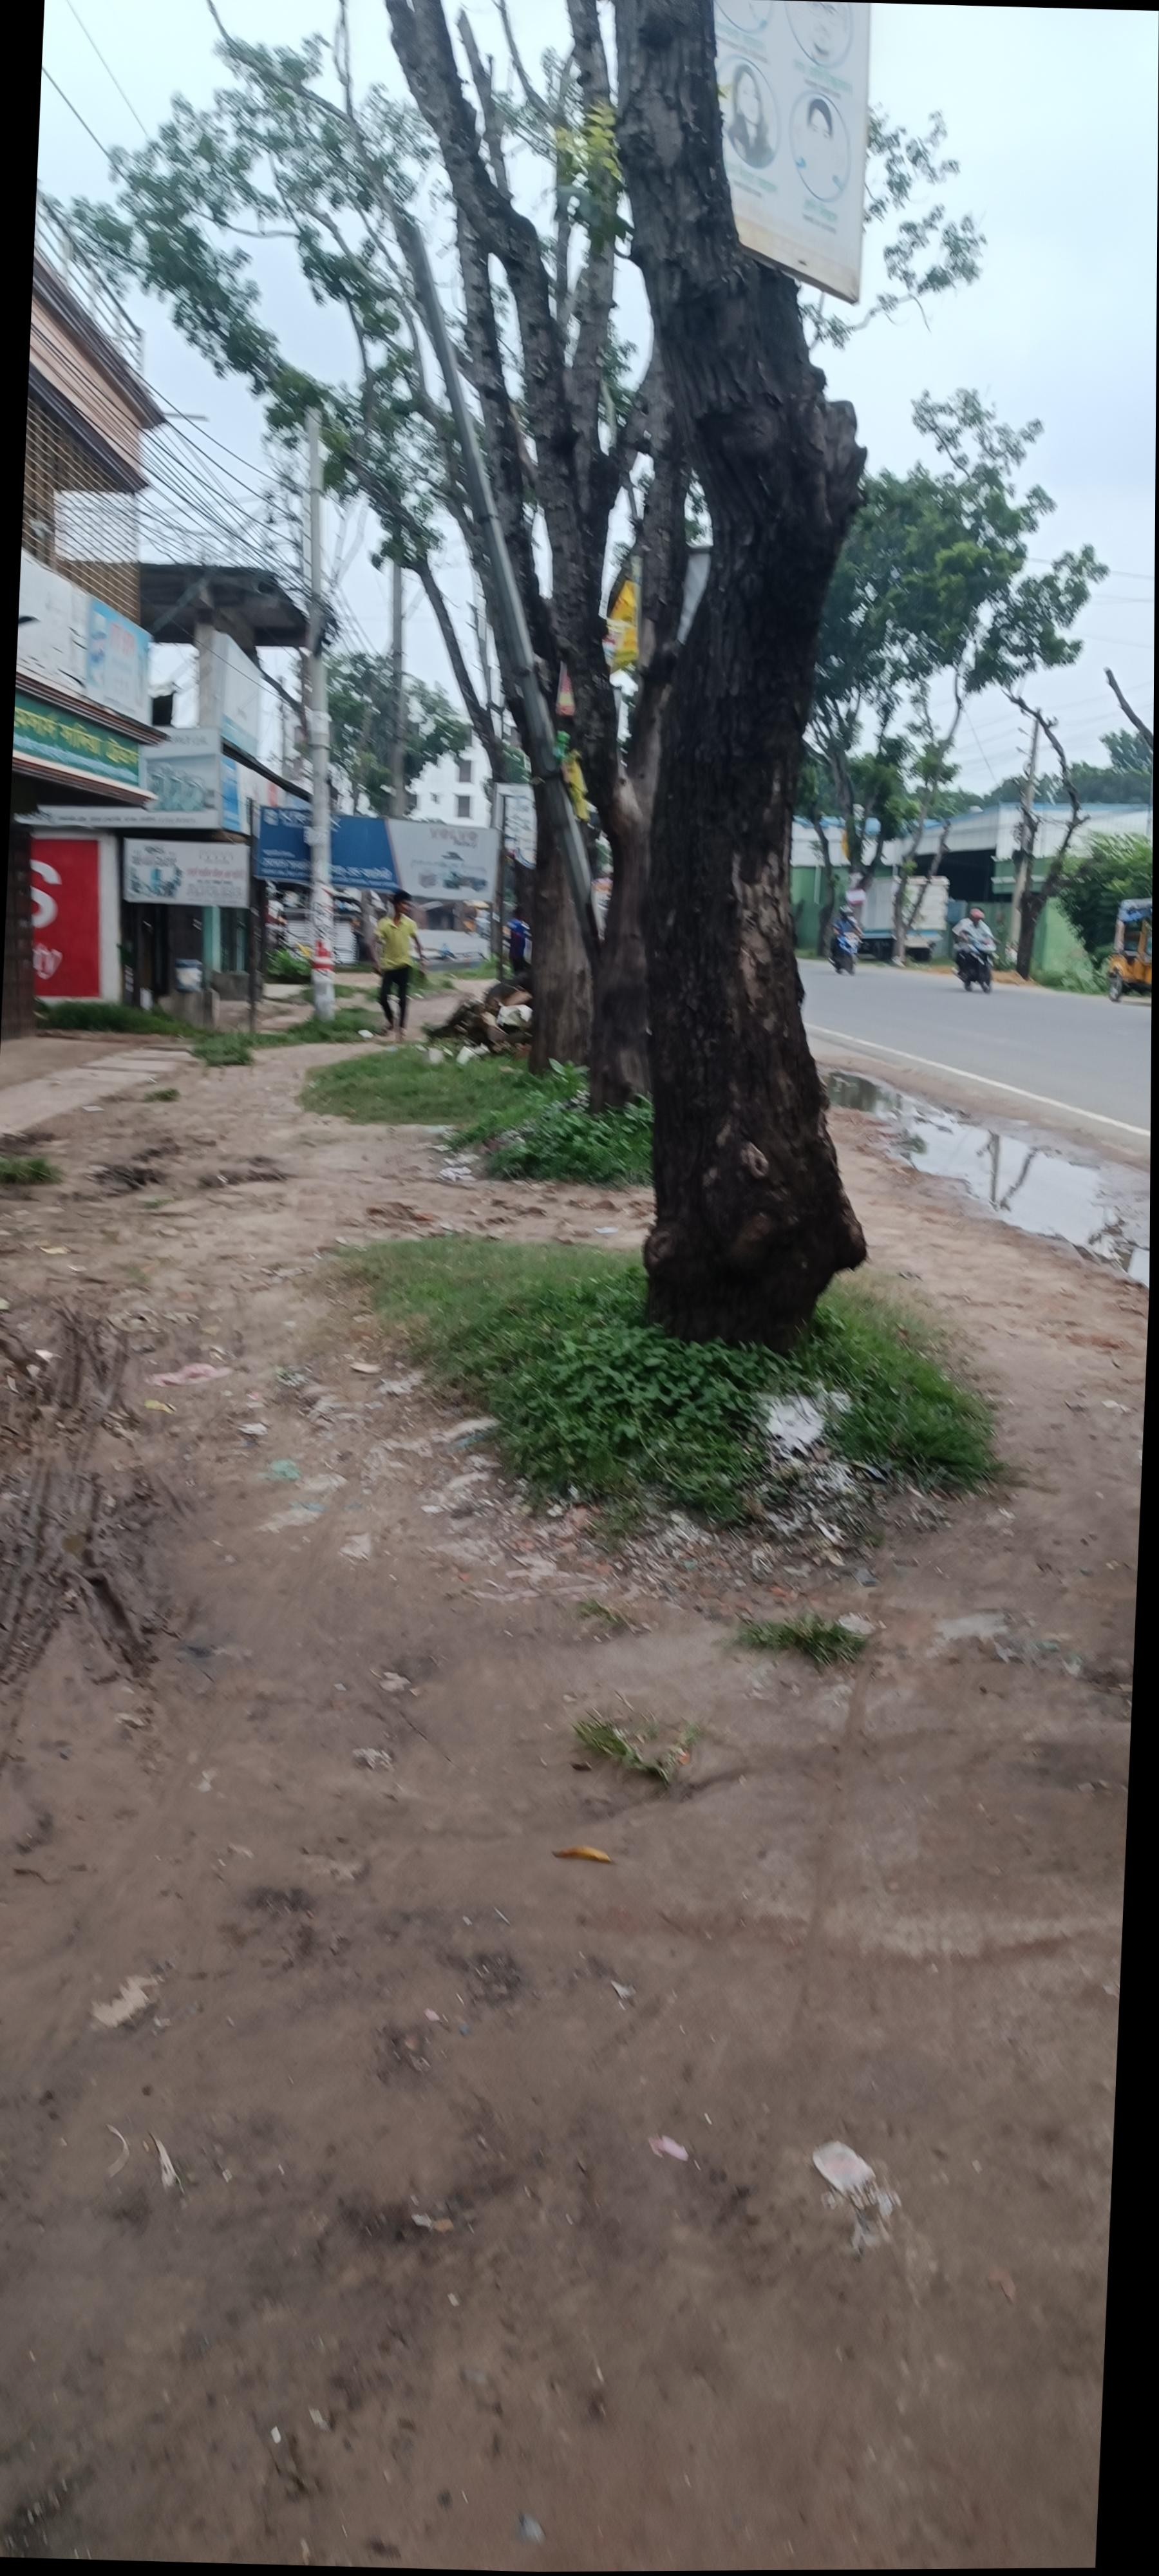Fallen-tree: (872, 895, 909, 958)
Garbage-bin: (410, 871, 474, 1023), (995, 890, 1044, 976), (548, 889, 576, 963)
Pothole: (107, 912, 1159, 2576)
Potted-plant: (855, 1040, 1159, 1275)
